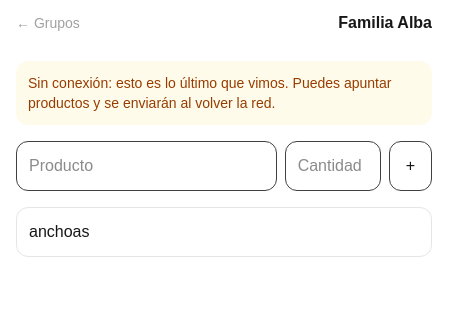
Test: Spec C · desde la cáscara se apunta, con la misma regla › iter1 DoD 3: lo apuntado va a la cola, con su grupo y su usuario
Expected: the button with test id "add-item" is shown, [389, 141, 432, 191]
Type "aceitunas" into the field with test id "item-name" at (146, 166), box [16, 141, 277, 191]
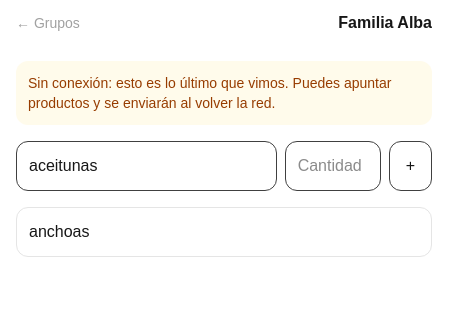
Click the button with test id "add-item" at (410, 166), box [389, 141, 432, 191]
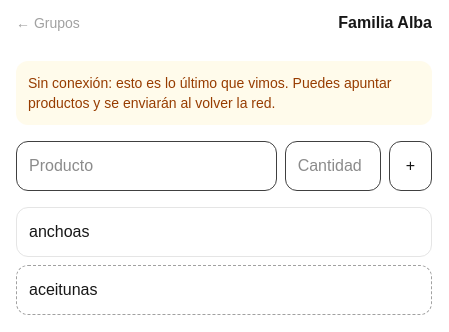
Now the list item with test id "pendiente" reads "aceitunas", box [29, 281, 98, 298]
